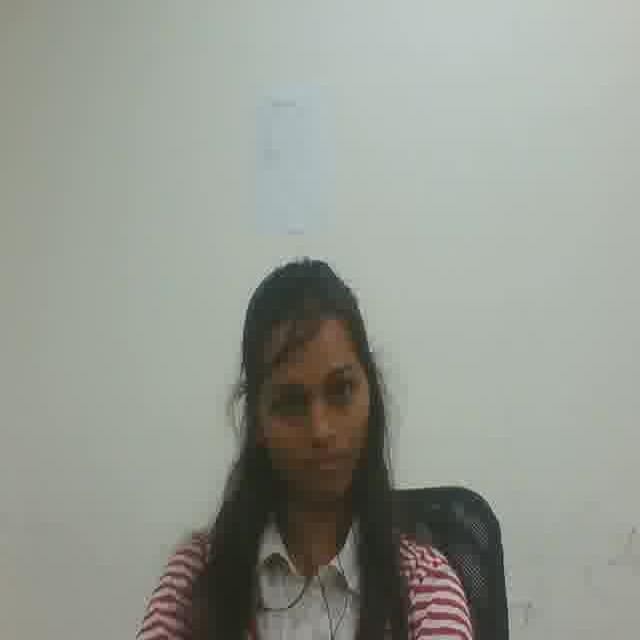Confusion: (257, 329, 364, 507)
